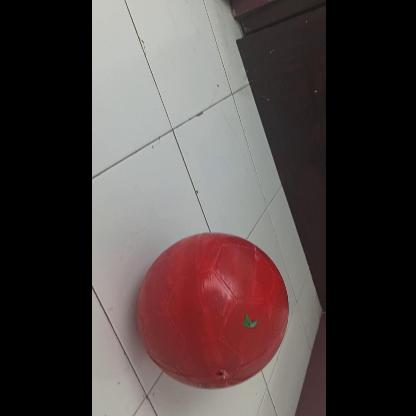red_ball: (132, 233, 286, 387)
